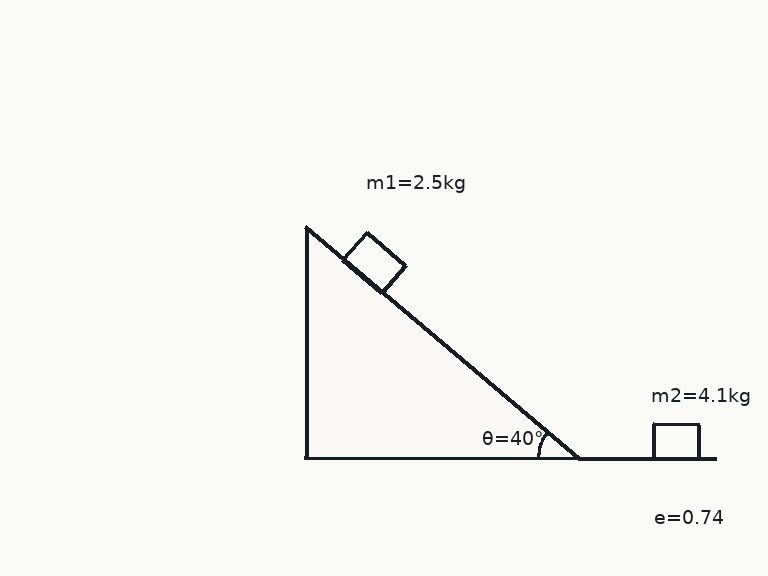block: (340, 230, 407, 295), (651, 422, 701, 460)
ramp: (303, 227, 580, 460)
